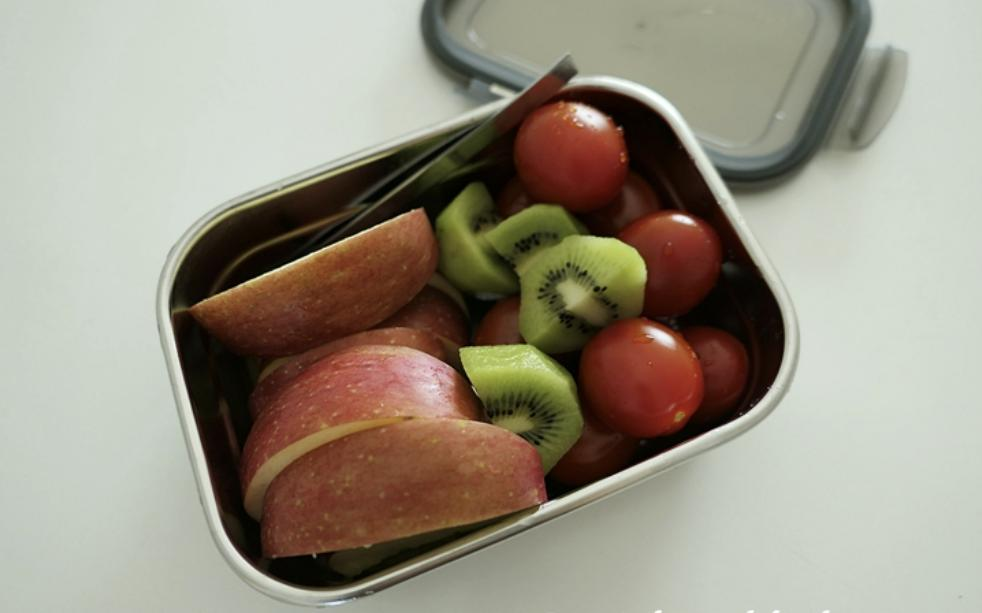Lunch Box: (158, 0, 906, 605)
